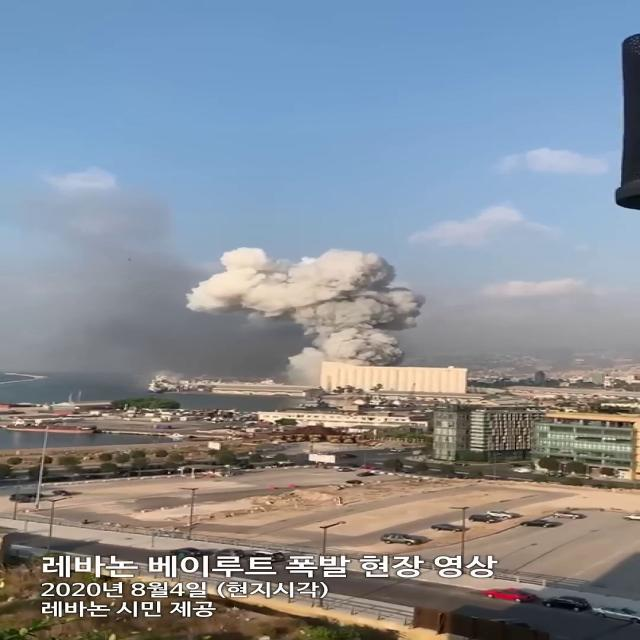explosion: (163, 211, 483, 412)
